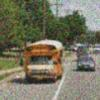buses: (23, 38, 65, 84)
